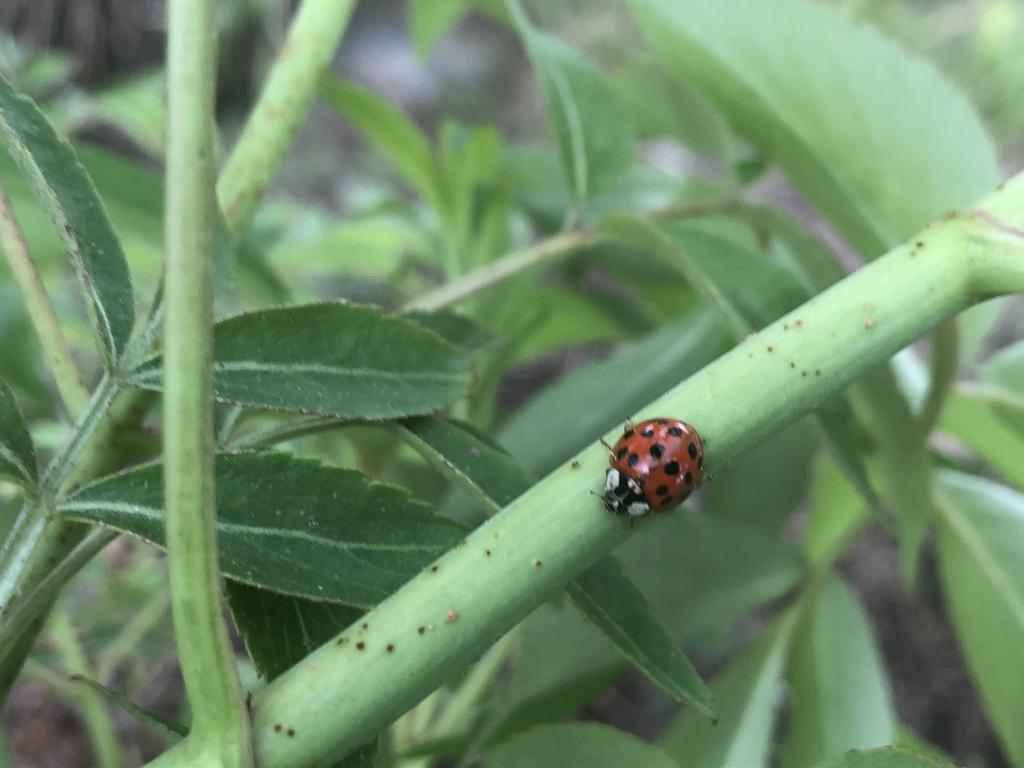ladybug: (595, 413, 709, 523)
